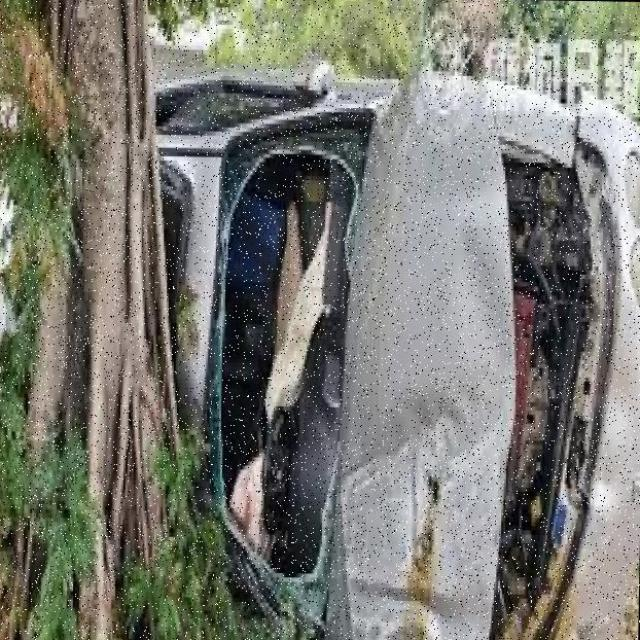accident: (129, 11, 640, 639)
